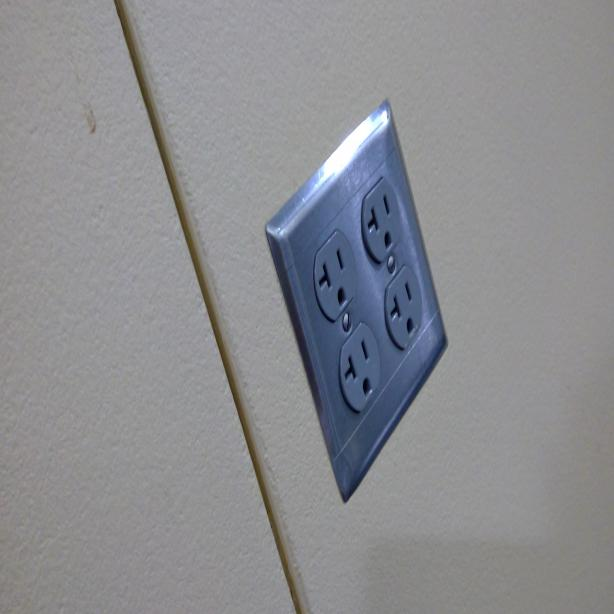typeb: (336, 338, 381, 404), (314, 240, 355, 312), (360, 187, 402, 255), (386, 276, 422, 339)
